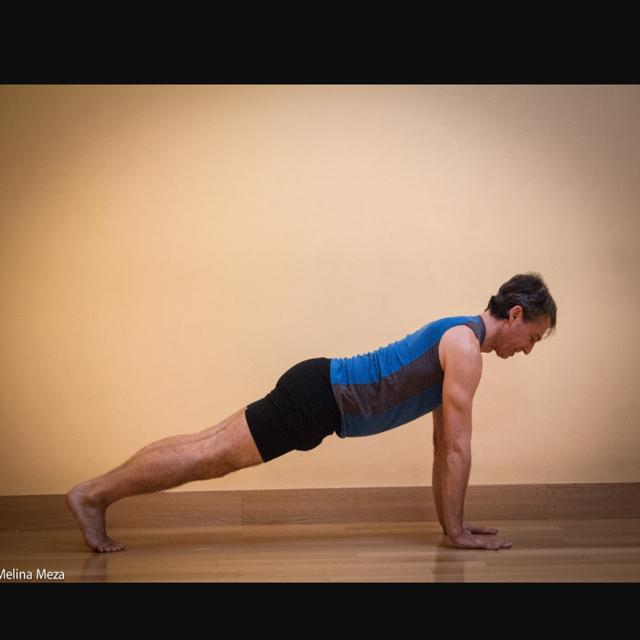Plank_Pose: (45, 266, 575, 564)
